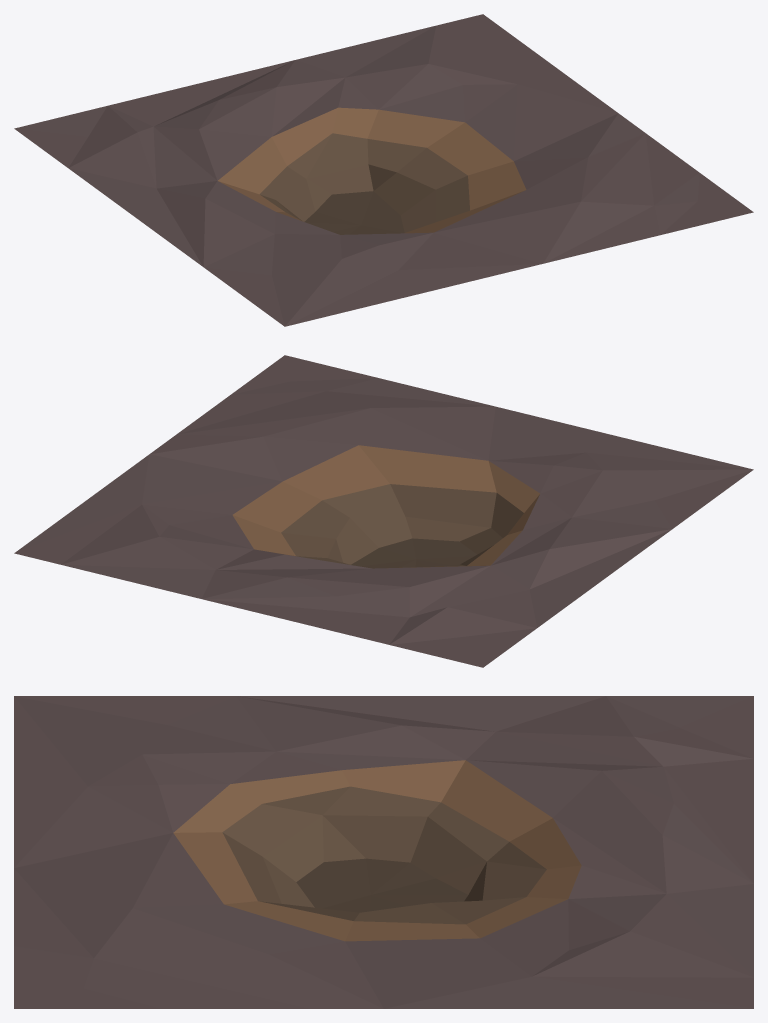
The model's file is TB_D_Env_Tile_Lake_C.FBX.
3 views of the same model, one above another, from view 1: azimuth 30°, elevation 25°; view 2: azimuth 150°, elevation 25°; view 3: azimuth 270°, elevation 25° (orthographic). The views are drawn at different scales.
Parts seen in each view (by area): view 1: TB_D_Env_Tile_Lake_C; view 2: TB_D_Env_Tile_Lake_C; view 3: TB_D_Env_Tile_Lake_C.
Boxes of the visible parts, box(x1,y1,x2,y2) form: TB_D_Env_Tile_Lake_C: box(14, 14, 753, 326); TB_D_Env_Tile_Lake_C: box(14, 355, 753, 667); TB_D_Env_Tile_Lake_C: box(14, 696, 753, 1008).
Size of the model in its own units: 20 by 2.24 by 20.
